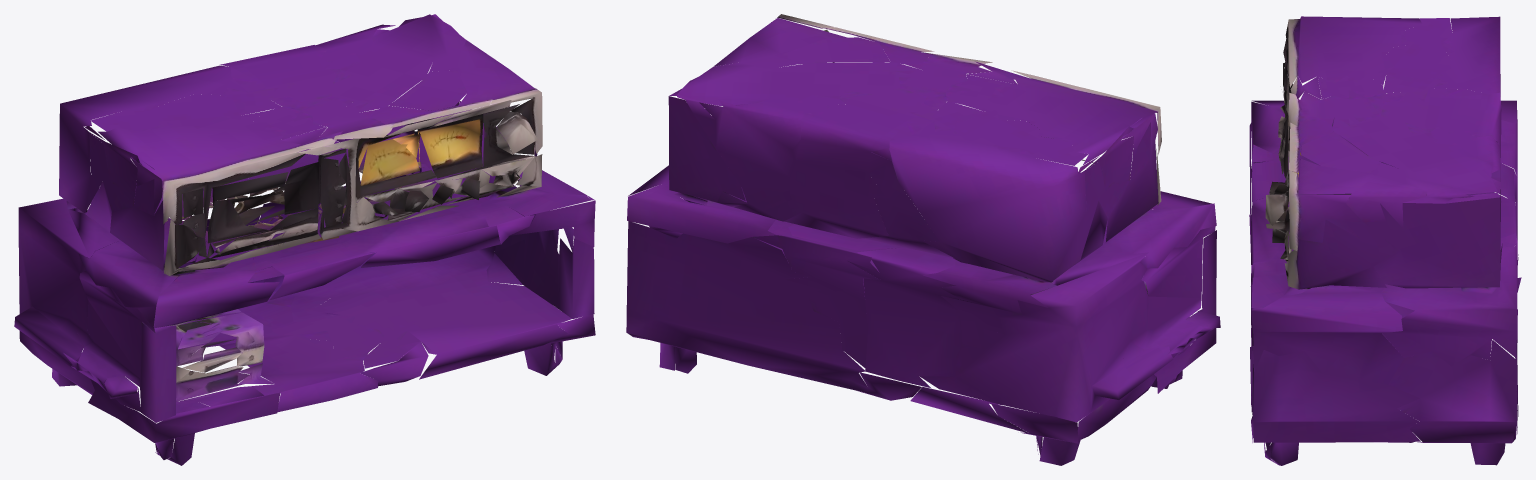
Rendered from cassette_deck_cabinet.glb.
3 renders of one model, left to right at view 1: azimuth 30°, elevation 25°; view 2: azimuth 150°, elevation 25°; view 3: azimuth 270°, elevation 25°, orthographic. The views are drawn at different scales.
Parts seen in each view (by area): view 1: tripo_node_f000d142-802d-46e4-961a-bdf8d1bb03f9; view 2: tripo_node_f000d142-802d-46e4-961a-bdf8d1bb03f9; view 3: tripo_node_f000d142-802d-46e4-961a-bdf8d1bb03f9.
Part boxes in pixels (x1,y1,x2,y2): tripo_node_f000d142-802d-46e4-961a-bdf8d1bb03f9: (14, 14, 595, 465); tripo_node_f000d142-802d-46e4-961a-bdf8d1bb03f9: (626, 14, 1220, 465); tripo_node_f000d142-802d-46e4-961a-bdf8d1bb03f9: (1249, 16, 1521, 465).
Bounding box in the file's own units: 0.7 × 0.3975 × 0.3618.
1 material, 1 textured.
